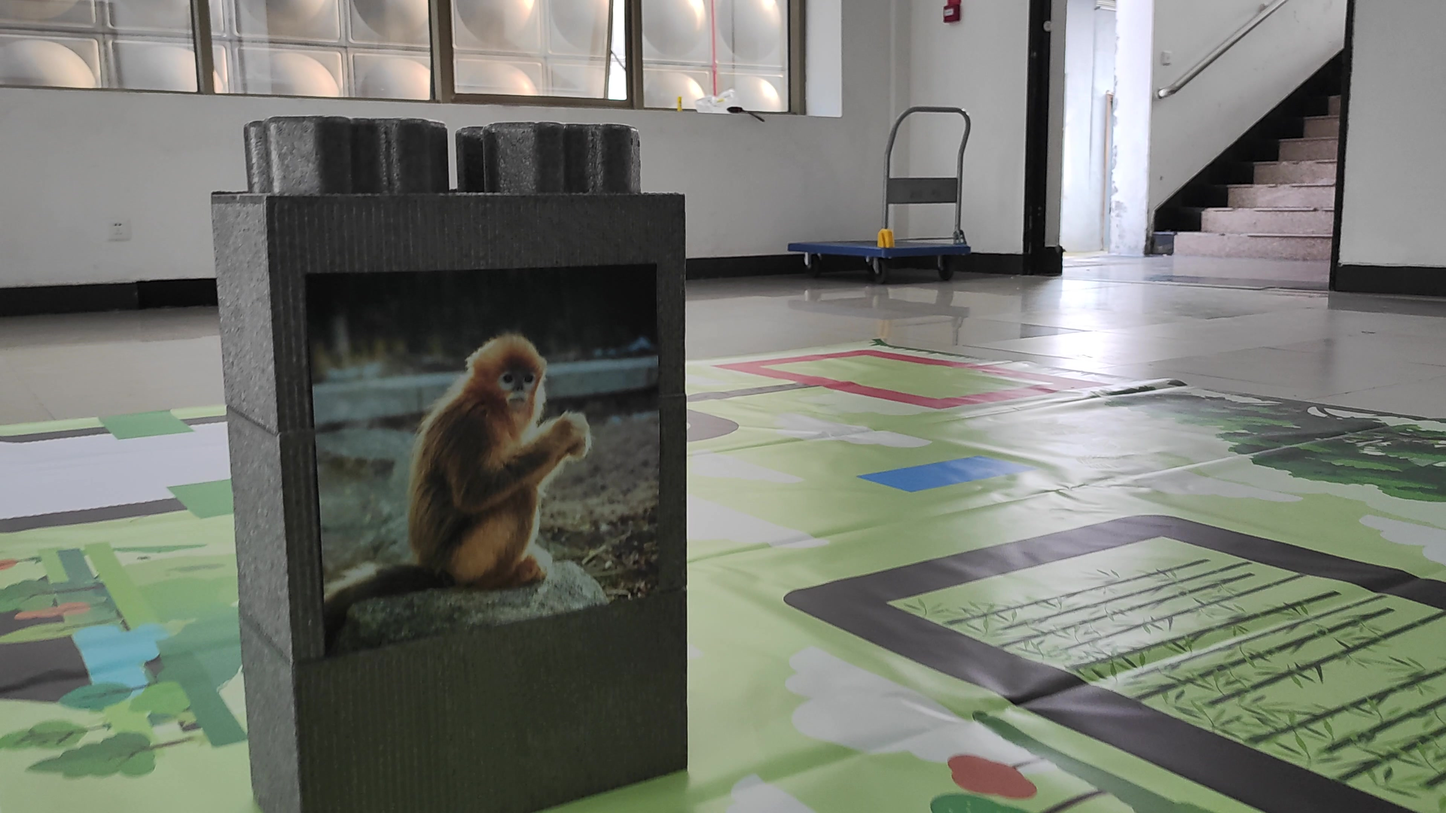monkey: (324, 306, 610, 630)
